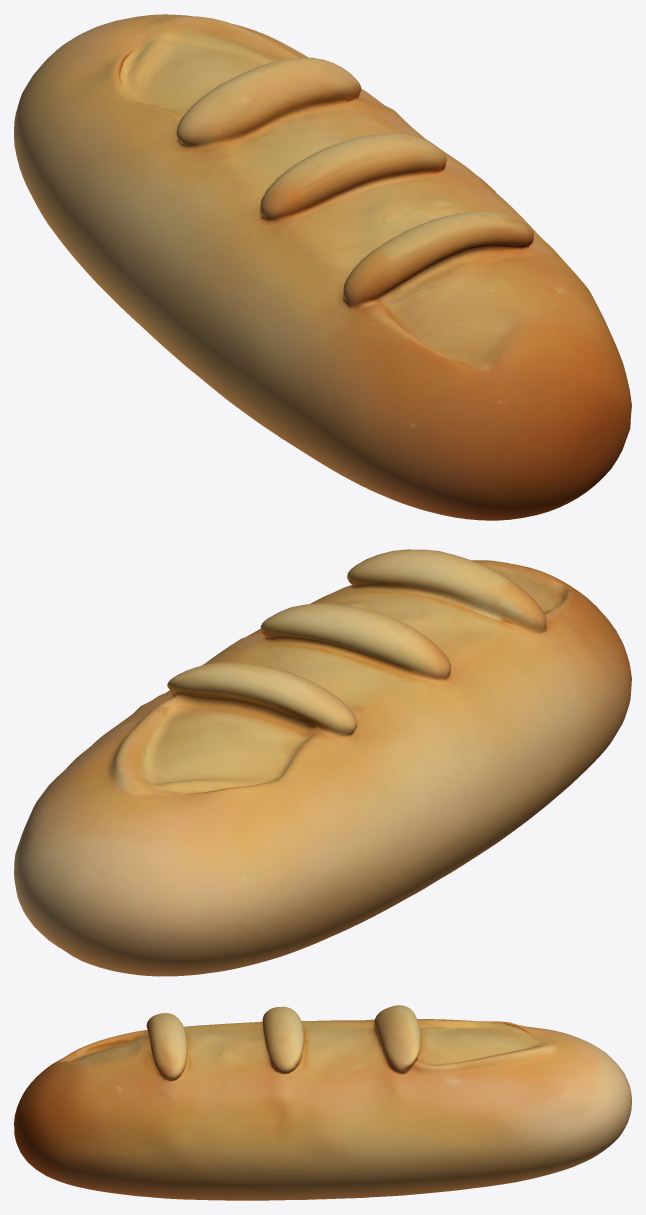
Rendered from baguette.glb.
3 views of the same model, one above another, from view 1: azimuth 30°, elevation 25°; view 2: azimuth 150°, elevation 25°; view 3: azimuth 270°, elevation 25° (orthographic). The views are drawn at different scales.
Visible parts, largest first — view 1: tripo_node_4c45642f; view 2: tripo_node_4c45642f; view 3: tripo_node_4c45642f.
Boxes of the visible parts, x1,y1,x2,y2 form: tripo_node_4c45642f: [14, 14, 631, 520]; tripo_node_4c45642f: [14, 549, 631, 976]; tripo_node_4c45642f: [14, 1005, 631, 1200].
Bounding box in the file's own units: 40.22 × 30.47 × 99.96.
Materials: 1 (1 with a texture image).
